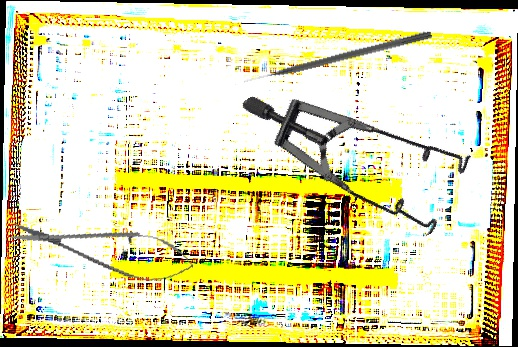Micro Scissor: (7, 207, 198, 290)
Pusher: (242, 28, 433, 86)
Speculum: (239, 13, 496, 284)
